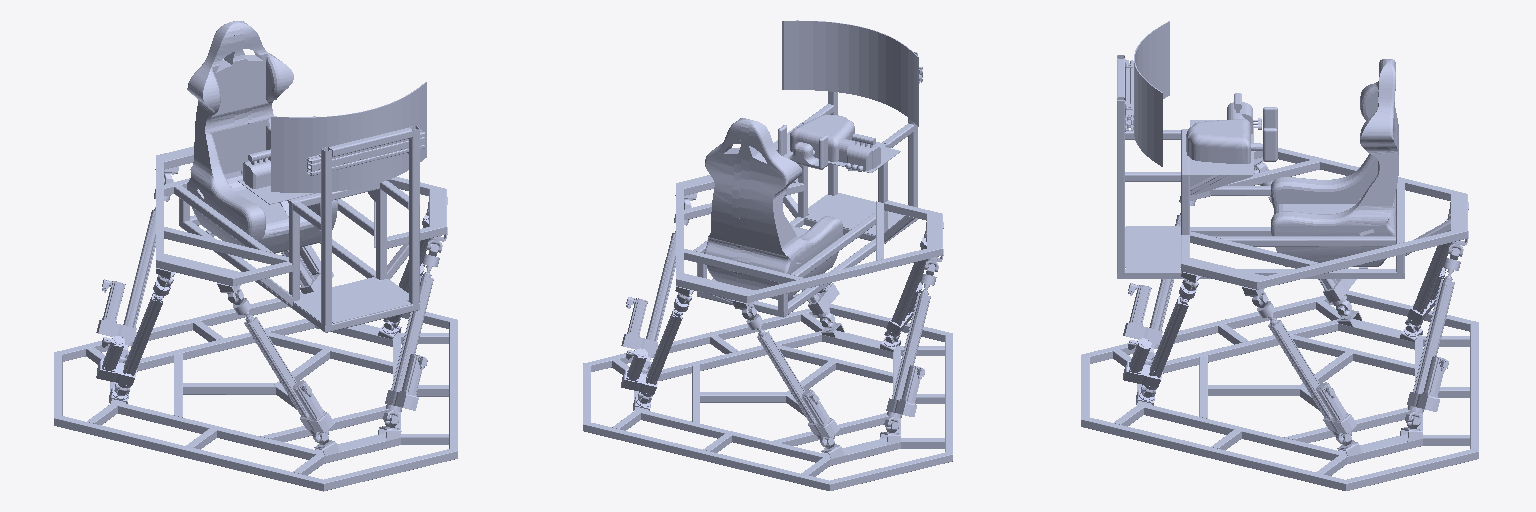
--- What the picture shows (computed from the rendered views, not written in the file) ---
3 views of the same robot in one strip: view 1: azimuth 30°, elevation 25°; view 2: azimuth 150°, elevation 25°; view 3: azimuth 270°, elevation 25° (orthographic).
Model Assem2 with 50 links and 49 joints (30 revolute, 6 prismatic, 13 fixed), rooted at base_link, posed all joints at 0.
Visible links, largest first — view 1: frameboven, base_link, onderaktuator_2, onderaktuator_5, onderaktuator_1, onderaktuator_6, onderaktuator_4; view 2: frameboven, base_link, onderaktuator_6, onderaktuator_3, onderaktuator_5, onderaktuator_4, onderaktuator_1, onderaktuator_2; view 3: frameboven, base_link, onderaktuator_4, onderaktuator_3, onderaktuator_2, onderaktuator_1, onderaktuator_5, onderaktuator_6.
Link boxes in pixels (x1=…): frameboven: x1=155, y1=21, x2=447, y2=332; base_link: x1=54, y1=292, x2=457, y2=491; onderaktuator_2: x1=383, y1=273, x2=433, y2=422; onderaktuator_5: x1=96, y1=207, x2=155, y2=356; onderaktuator_1: x1=244, y1=315, x2=334, y2=442; onderaktuator_6: x1=96, y1=292, x2=163, y2=394; onderaktuator_4: x1=281, y1=245, x2=333, y2=293; frameboven: x1=675, y1=20, x2=943, y2=317; base_link: x1=583, y1=304, x2=952, y2=490; onderaktuator_6: x1=884, y1=291, x2=930, y2=428; onderaktuator_3: x1=621, y1=231, x2=675, y2=367; onderaktuator_5: x1=757, y1=330, x2=839, y2=446; onderaktuator_4: x1=621, y1=309, x2=682, y2=402; onderaktuator_1: x1=884, y1=249, x2=927, y2=341; onderaktuator_2: x1=802, y1=283, x2=839, y2=322; frameboven: x1=1117, y1=21, x2=1468, y2=295; base_link: x1=1081, y1=290, x2=1478, y2=490; onderaktuator_4: x1=1405, y1=276, x2=1454, y2=424; onderaktuator_3: x1=1268, y1=318, x2=1356, y2=443; onderaktuator_2: x1=1123, y1=296, x2=1188, y2=396; onderaktuator_1: x1=1123, y1=213, x2=1180, y2=358; onderaktuator_5: x1=1405, y1=243, x2=1451, y2=331; onderaktuator_6: x1=1268, y1=196, x2=1356, y2=310.
Size in the robot's own frame: 2.14 by 1.85 by 1.74 metres.
50 mesh visuals loaded from 50 distinct referenced files (50 binary STL).

The robot description file, URDF, robot "Assem2":
<?xml version="1.0" encoding="utf-8"?>
<!-- This URDF was automatically created by SolidWorks to URDF Exporter! Originally created by Stephen Brawner ([email redacted]) 
     Commit Version: 1.6.0-4-g7f85cfe  Build Version: 1.6.7995.38578
     For more information, please see http://wiki.ros.org/sw_urdf_exporter -->
<robot
  name="Assem2">
  <link
    name="base_link">
    <inertial>
      <origin
        xyz="0.68024 -1.4149 0.026006"
        rpy="0 0 0" />
      <mass
        value="8.1743" />
      <inertia
        ixx="2.3867"
        ixy="0.0012133"
        ixz="-1.163E-05"
        iyy="2.3853"
        iyz="-6.2917E-06"
        izz="4.7628" />
    </inertial>
    <visual>
      <origin
        xyz="0 0 0"
        rpy="0 0 0" />
      <geometry>
        <mesh
          filename="package://Assem2/meshes/base_link.STL" />
      </geometry>
      <material
        name="">
        <color
          rgba="0.79216 0.81961 0.93333 1" />
      </material>
    </visual>
    <collision>
      <origin
        xyz="0 0 0"
        rpy="0 0 0" />
      <geometry>
        <mesh
          filename="package://Assem2/meshes/base_link.STL" />
      </geometry>
    </collision>
  </link>
  <link
    name="Xonder_1">
    <inertial>
      <origin
        xyz="4.0581E-09 1.1102E-15 0.034"
        rpy="0 0 0" />
      <mass
        value="0.056342" />
      <inertia
        ixx="1.6014E-05"
        ixy="6.1062E-11"
        ixz="-9.0738E-19"
        iyy="2.7464E-05"
        iyz="6.1062E-11"
        izz="1.6014E-05" />
    </inertial>
    <visual>
      <origin
        xyz="0 0 0"
        rpy="0 0 0" />
      <geometry>
        <mesh
          filename="package://Assem2/meshes/Xonder_1.STL" />
      </geometry>
      <material
        name="">
        <color
          rgba="0.79216 0.81961 0.93333 1" />
      </material>
    </visual>
    <collision>
      <origin
        xyz="0 0 0"
        rpy="0 0 0" />
      <geometry>
        <mesh
          filename="package://Assem2/meshes/Xonder_1.STL" />
      </geometry>
    </collision>
  </link>
  <joint
    name="Xonder_1_joint"
    type="revolute">
    <origin
      xyz="0.49551 -2.0953 0.10657"
      rpy="1.2911 -0.41982 0.11654" />
    <parent
      link="base_link" />
    <child
      link="Xonder_1" />
    <axis
      xyz="0 0 1" />
      <limit upper="0.785398" lower="-0.785398" effort="100" velocity="100"/>
  </joint>
  <link
    name="onderaktuator_1">
    <inertial>
      <origin
        xyz="-0.046341 0.24999 0.034776"
        rpy="0 0 0" />
      <mass
        value="1.8654" />
      <inertia
        ixx="0.058489"
        ixy="-0.0045785"
        ixz="7.4943E-05"
        iyy="0.005697"
        iyz="7.6664E-05"
        izz="0.062948" />
    </inertial>
    <visual>
      <origin
        xyz="0 0 0"
        rpy="0 0 0" />
      <geometry>
        <mesh
          filename="package://Assem2/meshes/onderaktuator_1.STL" />
      </geometry>
      <material
        name="">
        <color
          rgba="0.79216 0.81961 0.93333 1" />
      </material>
    </visual>
    <collision>
      <origin
        xyz="0 0 0"
        rpy="0 0 0" />
      <geometry>
        <mesh
          filename="package://Assem2/meshes/onderaktuator_1.STL" />
      </geometry>
    </collision>
  </link>
  <joint
    name="onderaktuator_1_joint"
    type="revolute">
    <origin
      xyz="-0.034 0 0.034"
      rpy="-1.5708 1.5558 -1.5708" />
    <parent
      link="Xonder_1" />
    <child
      link="onderaktuator_1" />
    <axis
      xyz="0 0 1" />
      <limit upper="0.785398" lower="-0.785398" effort="100" velocity="100"/>
  </joint>
  <link
    name="stangaktuator_1">
    <inertial>
      <origin
        xyz="1.9212E-07 -2.0663E-07 -0.17446"
        rpy="0 0 0" />
      <mass
        value="0.27817" />
      <inertia
        ixx="0.0068049"
        ixy="-8.1426E-11"
        ixz="-1.5965E-09"
        iyy="0.0068049"
        iyz="3.7643E-09"
        izz="2.2188E-05" />
    </inertial>
    <visual>
      <origin
        xyz="0 0 0"
        rpy="0 0 0" />
      <geometry>
        <mesh
          filename="package://Assem2/meshes/stangaktuator_1.STL" />
      </geometry>
      <material
        name="">
        <color
          rgba="0.79216 0.81961 0.93333 1" />
      </material>
    </visual>
    <collision>
      <origin
        xyz="0 0 0"
        rpy="0 0 0" />
      <geometry>
        <mesh
          filename="package://Assem2/meshes/stangaktuator_1.STL" />
      </geometry>
    </collision>
  </link>
  <joint
    name="stangaktuator_1_joint"
    type="prismatic">
    <origin
      xyz="0 0.6141 0.034"
      rpy="1.5708 0.17904 -3.1416" />
    <parent
      link="onderaktuator_1" />
    <child
      link="stangaktuator_1" />
    <axis
      xyz="0 0 1" />
      <limit
      lower="0"
      upper="0.4"
      effort="3000"
      velocity="100" />
  </joint>
  <link
    name="lager_1">
    <inertial>
      <origin
        xyz="-7.02949809472386E-10 9.83808590149238E-11 0.00761130965278722"
        rpy="0 0 0" />
      <mass
        value="0.217501495703173" />
      <inertia
        ixx="0.000106880183994852"
        ixy="5.69256203837754E-06"
        ixz="-7.96059898704768E-13"
        iyy="9.55271032351514E-05"
        iyz="-5.01418969448789E-12"
        izz="0.000156046844227139" />
    </inertial>
    <visual>
      <origin
        xyz="0 0 0"
        rpy="0 0 0" />
      <geometry>
        <mesh
          filename="package://Assem2/meshes/lager_1.STL" />
      </geometry>
      <material
        name="">
        <color
          rgba="0.792156862745098 0.819607843137255 0.933333333333333 1" />
      </material>
    </visual>
    <collision>
      <origin
        xyz="0 0 0"
        rpy="0 0 0" />
      <geometry>
        <mesh
          filename="package://Assem2/meshes/lager_1.STL" />
      </geometry>
    </collision>
  </link>
  <joint
    name="lager_1_joint"
    type="revolute">
    <origin
      xyz="0 0 0.13525"
      rpy="0 0 -1.3682" />
    <parent
      link="stangaktuator_1" />
    <child
      link="lager_1" />
    <axis
      xyz="0 0 1" />
      <limit upper="0.785398" lower="-0.785398" effort="100" velocity="100"/>
  /</joint>
  <link
    name="Xboven_1">
    <inertial>
      <origin
        xyz="-4.05809563730486E-09 3.21964677141295E-15 4.05807443204509E-09"
        rpy="0 0 0" />
      <mass
        value="0.056342036825042" />
      <inertia
        ixx="1.60143282288172E-05"
        ixy="-6.10624437311296E-11"
        ixz="-9.43594703241291E-19"
        iyy="2.74639311273774E-05"
        iyz="-6.10624437891513E-11"
        izz="1.60143282288171E-05" />
    </inertial>
    <visual>
      <origin
        xyz="0 0 0"
        rpy="0 0 0" />
      <geometry>
        <mesh
          filename="package://Assem2/meshes/Xboven_1.STL" />
      </geometry>
      <material
        name="">
        <color
          rgba="0.792156862745098 0.819607843137255 0.933333333333333 1" />
      </material>
    </visual>
    <collision>
      <origin
        xyz="0 0 0"
        rpy="0 0 0" />
      <geometry>
        <mesh
          filename="package://Assem2/meshes/Xboven_1.STL" />
      </geometry>
    </collision>
  </link>
  <joint
    name="Xboven_1_joint"
    type="revolute">
    <origin
      xyz="0 0 0.058926"
      rpy="1.5558 0 1.9642" />
    <parent
      link="lager_1" />
    <child
      link="Xboven_1" />
    <axis
      xyz="-1 0 0" />
      <limit upper="0.785398" lower="-0.785398" effort="100" velocity="100"/>
  </joint>
  <link
    name="U_1">
    <inertial>
      <origin
        xyz="6.02921734760287E-09 0.023965209376635 0.0339999979976191"
        rpy="0 0 0" />
      <mass
        value="0.0691680669253734" />
      <inertia
        ixx="3.71147088047297E-05"
        ixy="-1.20932779349426E-11"
        ixz="1.11394230980637E-10"
        iyy="3.75575627876219E-05"
        iyz="-1.46442444150324E-11"
        izz="2.10363555468146E-05" />
    </inertial>
    <visual>
      <origin
        xyz="0 0 0"
        rpy="0 0 0" />
      <geometry>
        <mesh
          filename="package://Assem2/meshes/U_1.STL" />
      </geometry>
      <material
        name="">
        <color
          rgba="0.792156862745098 0.819607843137255 0.933333333333333 1" />
      </material>
    </visual>
    <collision>
      <origin
        xyz="0 0 0"
        rpy="0 0 0" />
      <geometry>
        <mesh
          filename="package://Assem2/meshes/U_1.STL" />
      </geometry>
    </collision>
  </link>
  <joint
    name="U_1_joint"
    type="revolute">
    <origin
      xyz="0 0 0.034"
      rpy="-3.1416 0 2.9798" />
    <parent
      link="Xboven_1" />
    <child
      link="U_1" />
    <axis
      xyz="0 0 -1" />
      <limit upper="0.785398" lower="-0.785398" effort="100" velocity="100"/>
  </joint>
  <link
    name="schijfA_1">
    <inertial>
      <origin
        xyz="2.55351295663786E-14 0.000500000000002943 2.57571741713036E-14"
        rpy="0 0 0" />
      <mass
        value="0.00424821866581685" />
      <inertia
        ixx="1.47161295786626E-06"
        ixy="1.27584337680179E-20"
        ixz="1.21760986167806E-21"
        iyy="2.94251787928822E-06"
        iyz="-9.97910690983973E-21"
        izz="1.47161295786626E-06" />
    </inertial>
    <visual>
      <origin
        xyz="0 0 0"
        rpy="0 0 0" />
      <geometry>
        <mesh
          filename="package://Assem2/meshes/schijfA_1.STL" />
      </geometry>
      <material
        name="">
        <color
          rgba="0.792156862745098 0.819607843137255 0.933333333333333 1" />
      </material>
    </visual>
    <collision>
      <origin
        xyz="0 0 0"
        rpy="0 0 0" />
      <geometry>
        <mesh
          filename="package://Assem2/meshes/schijfA_1.STL" />
      </geometry>
    </collision>
  </link>
  <joint
    name="schijfA_1_joint"
    type="fixed">
    <origin
      xyz="0 0.043 0.034"
      rpy="0 -1.0472 0" />
    <parent
      link="U_1" />
    <child
      link="schijfA_1" />
    <axis
      xyz="0 0 0" />
  </joint>
  <link
    name="Xonder_2">
    <inertial>
      <origin
        xyz="4.0581E-09 5.2736E-15 0.034"
        rpy="0 0 0" />
      <mass
        value="0.056342" />
      <inertia
        ixx="1.6014E-05"
        ixy="6.1062E-11"
        ixz="-8.9627E-19"
        iyy="2.7464E-05"
        iyz="6.1062E-11"
        izz="1.6014E-05" />
    </inertial>
    <visual>
      <origin
        xyz="0 0 0"
        rpy="0 0 0" />
      <geometry>
        <mesh
          filename="package://Assem2/meshes/Xonder_2.STL" />
      </geometry>
      <material
        name="">
        <color
          rgba="0.79216 0.81961 0.93333 1" />
      </material>
    </visual>
    <collision>
      <origin
        xyz="0 0 0"
        rpy="0 0 0" />
      <geometry>
        <mesh
          filename="package://Assem2/meshes/Xonder_2.STL" />
      </geometry>
    </collision>
  </link>
  <joint
    name="Xonder_2_joint"
    type="revolute">
    <origin
      xyz="0.86543 -2.0953 0.10657"
      rpy="1.2911 0.41982 -0.11654" />
    <parent
      link="base_link" />
    <child
      link="Xonder_2" />
    <axis
      xyz="0 0 1" />
      <limit upper="0.785398" lower="-0.785398" effort="100" velocity="100"/>
  </joint>
  <link
    name="onderaktuator_2">
    <inertial>
      <origin
        xyz="-0.046341 0.24999 0.034776"
        rpy="0 0 0" />
      <mass
        value="1.8654" />
      <inertia
        ixx="0.058489"
        ixy="-0.0045785"
        ixz="7.4943E-05"
        iyy="0.005697"
        iyz="7.6664E-05"
        izz="0.062948" />
    </inertial>
    <visual>
      <origin
        xyz="0 0 0"
        rpy="0 0 0" />
      <geometry>
        <mesh
          filename="package://Assem2/meshes/onderaktuator_2.STL" />
      </geometry>
      <material
        name="">
        <color
          rgba="0.79216 0.81961 0.93333 1" />
      </material>
    </visual>
    <collision>
      <origin
        xyz="0 0 0"
        rpy="0 0 0" />
      <geometry>
        <mesh
          filename="package://Assem2/meshes/onderaktuator_2.STL" />
      </geometry>
    </collision>
  </link>
  <joint
    name="onderaktuator_2_joint"
    type="revolute">
    <origin
      xyz="-0.034 0 0.034"
      rpy="-1.5708 1.5558 -1.5708" />
    <parent
      link="Xonder_2" />
    <child
      link="onderaktuator_2" />
    <axis
      xyz="0 0 1" />
      <limit upper="0.785398" lower="-0.785398" effort="100" velocity="100"/>
  </joint>
  <link
    name="stangaktuator_2">
    <inertial>
      <origin
        xyz="1.72486930072324E-07 -1.96902141258448E-07 -0.299038704100568"
        rpy="0 0 0" />
      <mass
        value="0.278174502298026" />
      <inertia
        ixx="0.0068049433318464"
        ixy="-2.96509255950234E-11"
        ixz="-5.13956181653891E-10"
        iyy="0.00680493657762046"
        iyz="3.10662214676297E-09"
        izz="2.2187951082588E-05" />
    </inertial>
    <visual>
      <origin
        xyz="0 0 0"
        rpy="0 0 0" />
      <geometry>
        <mesh
          filename="package://Assem2/meshes/stangaktuator_2.STL" />
      </geometry>
      <material
        name="">
        <color
          rgba="0.792156862745098 0.819607843137255 0.933333333333333 1" />
      </material>
    </visual>
    <collision>
      <origin
        xyz="0 0 0"
        rpy="0 0 0" />
      <geometry>
        <mesh
          filename="package://Assem2/meshes/stangaktuator_2.STL" />
      </geometry>
    </collision>
  </link>
  <joint
    name="stangaktuator_2_joint"
    type="prismatic">
    <origin
      xyz="0 0.73868 0.034"
      rpy="-1.5708 -0.76994 0" />
    <parent
      link="onderaktuator_2" />
    <child
      link="stangaktuator_2" />
    <axis
      xyz="0 0 1" />
      <limit
      lower="0"
      upper="0.4"
      effort="3000"
      velocity="100" />
  </joint>
  <link
    name="lager_2">
    <inertial>
      <origin
        xyz="-0.00999183010513915 -0.000404247342965847 0.0182782662747604"
        rpy="0 0 0" />
      <mass
        value="0.217501675303535" />
      <inertia
        ixx="0.000106880294746943"
        ixy="5.69254546634325E-06"
        ixz="-1.48653047116627E-11"
        iyy="9.55271481040208E-05"
        iyz="-5.67937013488674E-11"
        izz="0.000156046891311603" />
    </inertial>
    <visual>
      <origin
        xyz="0 0 0"
        rpy="0 0 0" />
      <geometry>
        <mesh
          filename="package://Assem2/meshes/lager_2.STL" />
      </geometry>
      <material
        name="">
        <color
          rgba="0.792156862745098 0.819607843137255 0.933333333333333 1" />
      </material>
    </visual>
    <collision>
      <origin
        xyz="0 0 0"
        rpy="0 0 0" />
      <geometry>
        <mesh
          filename="package://Assem2/meshes/lager_2.STL" />
      </geometry>
    </collision>
  </link>
  <joint
    name="lager_2_joint"
    type="revolute">
    <origin
      xyz="0 0.01 0"
      rpy="0 0 1.5304" />
    <parent
      link="stangaktuator_2" />
    <child
      link="lager_2" />
    <axis
      xyz="0 0 1" />
      <limit upper="0.785398" lower="-0.785398" effort="100" velocity="100"/>
  </joint>
  <link
    name="Xboven_2">
    <inertial>
      <origin
        xyz="4.05805611336518E-09 -4.05814182258268E-09 -2.22044604925031E-16"
        rpy="0 0 0" />
      <mass
        value="0.0563420368250421" />
      <inertia
        ixx="1.60143282288172E-05"
        ixy="-9.3766547261051E-19"
        ixz="-6.10624437899984E-11"
        iyy="1.60143282288171E-05"
        iyz="-6.10624437957158E-11"
        izz="2.74639311273775E-05" />
    </inertial>
    <visual>
      <origin
        xyz="0 0 0"
        rpy="0 0 0" />
      <geometry>
        <mesh
          filename="package://Assem2/meshes/Xboven_2.STL" />
      </geometry>
      <material
        name="">
        <color
          rgba="0.792156862745098 0.819607843137255 0.933333333333333 1" />
      </material>
    </visual>
    <collision>
      <origin
        xyz="0 0 0"
        rpy="0 0 0" />
      <geometry>
        <mesh
          filename="package://Assem2/meshes/Xboven_2.STL" />
      </geometry>
    </collision>
  </link>
  <joint
    name="Xboven_2_joint"
    type="revolute">
    <origin
      xyz="-0.0099918 -0.00040423 0.069593"
      rpy="0 0.01503 0.3934" />
    <parent
      link="lager_2" />
    <child
      link="Xboven_2" />
    <axis
      xyz="0 -1 0" />
      <limit upper="0.785398" lower="-0.785398" effort="100" velocity="100"/>
  </joint>
  <link
    name="U_2">
    <inertial>
      <origin
        xyz="2.61259263112379E-08 0.0239652383880494 0.0340000368298488"
        rpy="0 0 0" />
      <mass
        value="0.0691682401521007" />
      <inertia
        ixx="3.71147964075179E-05"
        ixy="-2.84775010422909E-11"
        ixz="7.68039761402846E-11"
        iyy="3.75576101812513E-05"
        iyz="-3.98070937442932E-11"
        izz="2.10364227950237E-05" />
    </inertial>
    <visual>
      <origin
        xyz="0 0 0"
        rpy="0 0 0" />
      <geometry>
        <mesh
          filename="package://Assem2/meshes/U_2.STL" />
      </geometry>
      <material
        name="">
        <color
          rgba="0.792156862745098 0.819607843137255 0.933333333333333 1" />
      </material>
    </visual>
    <collision>
      <origin
        xyz="0 0 0"
        rpy="0 0 0" />
      <geometry>
        <mesh
          filename="package://Assem2/meshes/U_2.STL" />
      </geometry>
    </collision>
  </link>
  <joint
    name="U_2_joint"
    type="revolute">
    <origin
      xyz="-0.034 0 0"
      rpy="1.5708 0.16175 1.5708" />
    <parent
      link="Xboven_2" />
    <child
      link="U_2" />
    <axis
      xyz="0 0 1" />
      <limit upper="0.785398" lower="-0.785398" effort="100" velocity="100"/>
  </joint>
  <link
    name="schijfA_2">
    <inertial>
      <origin
        xyz="3.00870439673417E-14 0.000499999999999501 1.11022302462516E-14"
        rpy="0 0 0" />
      <mass
        value="0.00424821866581637" />
      <inertia
        ixx="1.47161295786609E-06"
        ixy="-1.1392965371846E-20"
        ixz="-2.13412598038681E-22"
        iyy="2.94251787928787E-06"
        iyz="2.39551505395357E-21"
        izz="1.47161295786609E-06" />
    </inertial>
    <visual>
      <origin
        xyz="0 0 0"
        rpy="0 0 0" />
      <geometry>
        <mesh
          filename="package://Assem2/meshes/schijfA_2.STL" />
      </geometry>
      <material
        name="">
        <color
          rgba="0.792156862745098 0.819607843137255 0.933333333333333 1" />
      </material>
    </visual>
    <collision>
      <origin
        xyz="0 0 0"
        rpy="0 0 0" />
      <geometry>
        <mesh
          filename="package://Assem2/meshes/schijfA_2.STL" />
      </geometry>
    </collision>
  </link>
  <joint
    name="schijfA_2_joint"
    type="fixed">
    <origin
      xyz="0 0.044 0.034"
      rpy="3.1416 -1.0472 0" />
    <parent
      link="U_2" />
    <child
      link="schijfA_2" />
    <axis
      xyz="0 0 0" />
  </joint>
  <link
    name="schijfB_2">
    <inertial>
      <origin
        xyz="9.88098491916389E-15 0.000500000000000167 -4.44089209850063E-15"
        rpy="0 0 0" />
      <mass
        value="0.00424821866581637" />
      <inertia
        ixx="1.47161295786609E-06"
        ixy="1.13098084085577E-16"
        ixz="-8.81774532981528E-22"
        iyy="2.94251787928787E-06"
        iyz="-4.28192624891586E-17"
        izz="1.47161295786608E-06" />
    </inertial>
    <visual>
      <origin
        xyz="0 0 0"
        rpy="0 0 0" />
      <geometry>
        <mesh
          filename="package://Assem2/meshes/schijfB_2.STL" />
      </geometry>
      <material
        name="">
        <color
          rgba="0.792156862745098 0.819607843137255 0.933333333333333 1" />
      </material>
    </visual>
    <collision>
      <origin
        xyz="0 0 0"
        rpy="0 0 0" />
      <geometry>
        <mesh
          filename="package://Assem2/meshes/schijfB_2.STL" />
      </geometry>
    </collision>
  </link>
  <joint
    name="schijfB_2_joint"
    type="fixed">
    <origin
      xyz="0 0 0"
      rpy="0 0 -3.1416" />
    <parent
      link="schijfA_2" />
    <child
      link="schijfB_2" />
    <axis
      xyz="0 0 0" />
  </joint>
  <link
    name="frameboven">
    <inertial>
      <origin
        xyz="0 0 0"
        rpy="0 0 0" />
      <mass
        value="36.8998176475609" />
      <inertia
        ixx="6.29272527053402"
        ixy="-0.0181678062908566"
        ixz="0.0159470428036254"
        iyy="4.30612404555482"
        iyz="1.54563382792871"
        izz="2.82773098148651" />
    </inertial>
    <visual>
      <origin
        xyz="0 0 0"
        rpy="0 0 0" />
      <geometry>
        <mesh
          filename="package://Assem2/meshes/frameboven.STL" />
      </geometry>
      <material
        name="">
        <color
          rgba="0.792156862745098 0.819607843137255 0.933333333333333 1" />
      </material>
    </visual>
    <collision>
      <origin
        xyz="0 0 0"
        rpy="0 0 0" />
      <geometry>
        <mesh
          filename="package://Assem2/meshes/frameboven.STL" />
      </geometry>
    </collision>
  </link>
  <joint
    name="frameboven_joint"
    type="fixed">
    <origin
      xyz="1.1141 0.015293 -0.86404"
      rpy="1.4706 0.053055 -2.7888" />
    <parent
      link="schijfB_2" />
    <child
      link="frameboven" />
    <axis
      xyz="0 0 0" />
  </joint>
  <link
    name="schijfB_1">
    <inertial>
      <origin
        xyz="-5.77315972805081E-15 0.000500000000000167 -6.21724893790088E-15"
        rpy="0 0 0" />
      <mass
        value="0.00424821866581677" />
      <inertia
        ixx="1.47161295786623E-06"
        ixy="1.37907551724841E-20"
        ixz="1.00585162486448E-21"
        iyy="2.94251787928815E-06"
        iyz="-1.17128774737509E-20"
        izz="1.47161295786622E-06" />
    </inertial>
    <visual>
      <origin
        xyz="0 0 0"
        rpy="0 0 0" />
      <geometry>
        <mesh
          filename="package://Assem2/meshes/schijfB_1.STL" />
      </geometry>
      <material
        name="">
        <color
          rgba="0.792156862745098 0.819607843137255 0.933333333333333 1" />
      </material>
    </visual>
    <collision>
      <origin
        xyz="0 0 0"
        rpy="0 0 0" />
      <geometry>
        <mesh
          filename="package://Assem2/meshes/schijfB_1.STL" />
      </geometry>
    </collision>
  </link>
  <joint
    name="schijfB_1_joint"
    type="fixed">
    <origin
      xyz="2.0845 0.87685 0.46064"
      rpy="1.2096 -0.087962 -2.1135" />
    <parent
      link="frameboven" />
    <child
      link="schijfB_1" />
    <axis
      xyz="0 0 0" />
  </joint>
  <link
    name="schijfB_4">
    <inertial>
      <origin
        xyz="-8.88178419700125E-15 0.000499999999952316 -1.28785870856518E-14"
        rpy="0 0 0" />
      <mass
        value="0.00424821866581672" />
      <inertia
        ixx="1.47161295786621E-06"
        ixy="7.36687053539726E-21"
        ixz="1.27054942088145E-21"
        iyy="2.94251787928811E-06"
        iyz="-7.19978005166155E-21"
        izz="1.4716129578662E-06" />
    </inertial>
    <visual>
      <origin
        xyz="0 0 0"
        rpy="0 0 0" />
      <geometry>
        <mesh
          filename="package://Assem2/meshes/schijfB_4.STL" />
      </geometry>
      <material
        name="">
        <color
          rgba="0.792156862745098 0.819607843137255 0.933333333333333 1" />
      </material>
    </visual>
    <collision>
      <origin
        xyz="0 0 0"
        rpy="0 0 0" />
      <geometry>
        <mesh
          filename="package://Assem2/meshes/schijfB_4.STL" />
      </geometry>
    </collision>
  </link>
  <joint
    name="schijfB_4_joint"
    type="fixed">
    <origin
      xyz="1.3709 -0.35921 0.46064"
      rpy="1.835 0.26398 0.070466" />
    <parent
      link="frameboven" />
    <child
      link="schijfB_4" />
    <axis
      xyz="0 0 0" />
  </joint>
  <link
    name="schijfB_6">
    <inertial>
      <origin
        xyz="1.46549439250521E-14 0.000500000000000389 2.67563748934663E-14"
        rpy="0 0 0" />
      <mass
        value="0.00424821866581627" />
      <inertia
        ixx="1.47161295786605E-06"
        ixy="-1.1964340379967E-20"
        ixz="-4.2351647362715E-22"
        iyy="2.9425178792878E-06"
        iyz="5.73070728376738E-21"
        izz="1.47161295786604E-06" />
    </inertial>
    <visual>
      <origin
        xyz="0 0 0"
        rpy="0 0 0" />
      <geometry>
        <mesh
          filename="package://Assem2/meshes/schijfB_6.STL" />
      </geometry>
      <material
        name="">
        <color
          rgba="0.792156862745098 0.819607843137255 0.933333333333333 1" />
      </material>
    </visual>
    <collision>
      <origin
        xyz="0 0 0"
        rpy="0 0 0" />
      <geometry>
        <mesh
          filename="package://Assem2/meshes/schijfB_6.STL" />
      </geometry>
    </collision>
  </link>
  <joint
    name="schijfB_6_joint"
    type="fixed">
    <origin
      xyz="2.2576 0.57704 0.46064"
      rpy="1.6776 -0.35626 -2.0785" />
    <parent
      link="frameboven" />
    <child
      link="schijfB_6" />
    <axis
      xyz="0 0 0" />
  </joint>
  <link
    name="schijfB_5">
    <inertial>
      <origin
        xyz="2.4980018054066E-15 0.000500000000000167 -1.66533453693773E-15"
        rpy="0 0 0" />
      <mass
        value="0.00424821866581641" />
      <inertia
        ixx="1.4716129578661E-06"
        ixy="-8.28338665410602E-21"
        ixz="1.4492204331929E-21"
        iyy="2.9425178792879E-06"
        iyz="-3.17637355220363E-21"
        izz="1.4716129578661E-06" />
    </inertial>
    <visual>
      <origin
        xyz="0 0 0"
        rpy="0 0 0" />
      <geometry>
        <mesh
          filename="package://Assem2/meshes/schijfB_5.STL" />
      </geometry>
      <material
        name="">
        <color
          rgba="0.792156862745098 0.819607843137255 0.933333333333333 1" />
      </material>
    </visual>
    <collision>
      <origin
        xyz="0 0 0"
        rpy="0 0 0" />
      <geometry>
        <mesh
          filename="package://Assem2/meshes/schijfB_5.STL" />
      </geometry>
    </collision>
  </link>
  <joint
    name="schijfB_5_joint"
    type="fixed">
    <origin
      xyz="1.7171 -0.35921 0.46064"
      rpy="1.835 -0.26398 -0.070466" />
    <parent
      link="frameboven" />
    <child
      link="schijfB_5" />
    <axis
      xyz="0 0 0" />
  </joint>
  <link
    name="schijfB_3">
    <inertial>
      <origin
        xyz="-9.99200722162641E-15 0.000499999999999279 -2.93098878501041E-14"
        rpy="0 0 0" />
      <mass
        value="0.00424821866581625" />
      <inertia
        ixx="1.47161295786604E-06"
        ixy="-1.33937084784586E-20"
        ixz="1.27054942088145E-21"
        iyy="2.94251787928778E-06"
        iyz="6.53803556161913E-21"
        izz="1.47161295786604E-06" />
    </inertial>
    <visual>
      <origin
        xyz="0 0 0"
        rpy="0 0 0" />
      <geometry>
        <mesh
          filename="package://Assem2/meshes/schijfB_3.STL" />
      </geometry>
      <material
        name="">
        <color
          rgba="0.792156862745098 0.819607843137255 0.933333333333333 1" />
      </material>
    </visual>
    <collision>
      <origin
        xyz="0 0 0"
        rpy="0 0 0" />
      <geometry>
        <mesh
          filename="package://Assem2/meshes/schijfB_3.STL" />
      </geometry>
    </collision>
  </link>
  <joint
    name="schijfB_3_joint"
    type="fixed">
    <origin
      xyz="0.83033 0.57704 0.46064"
      rpy="1.6776 0.35626 2.0785" />
    <parent
      link="frameboven" />
    <child
      link="schijfB_3" />
    <axis
      xyz="0 0 0" />
  </joint>
  <link
    name="Xonder_3">
    <inertial>
      <origin
        xyz="4.05809696957249E-09 -1.11022302462516E-15 0.0339999959419035"
        rpy="0 0 0" />
      <mass
        value="0.056342036825042" />
      <inertia
        ixx="1.60143282288172E-05"
        ixy="6.1062443742988E-11"
        ixz="-9.36394923189629E-19"
        iyy="2.74639311273774E-05"
        iyz="6.10624438243032E-11"
        izz="1.6014328228817E-05" />
    </inertial>
    <visual>
      <origin
        xyz="0 0 0"
        rpy="0 0 0" />
      <geometry>
        <mesh
          filename="package://Assem2/meshes/Xonder_3.STL" />
      </geometry>
      <material
        name="">
        <color
          rgba="0.792156862745098 0.819607843137255 0.933333333333333 1" />
      </material>
    </visual>
    <collision>
      <origin
        xyz="0 0 0"
        rpy="0 0 0" />
      <geometry>
        <mesh
          filename="package://Assem2/meshes/Xonder_3.STL" />
      </geometry>
    </collision>
  </link>
  <joint
    name="Xonder_3_joint"
    type="revolute">
    <origin
      xyz="1.3722 -1.1934 0.129"
      rpy="2.0056 -0.25483 0.5236" />
    <parent
      link="base_link" />
    <child
      link="Xonder_3" />
    <axis
      xyz="0 0 1" />
      <limit upper="0.785398" lower="-0.785398" effort="100" velocity="100"/>
  </joint>
  <link
    name="onderaktuator_3">
    <inertial>
      <origin
        xyz="0.0396021359321774 0.247508283084692 -0.00857882691181078"
        rpy="0 0 0" />
      <mass
        value="1.86541059754337" />
      <inertia
        ixx="0.061442854268015"
        ixy="-0.00914772176431719"
        ixz="-0.000939900476778596"
        iyy="0.00735160076624045"
        iyz="-0.00528747120190645"
        izz="0.058339922897334" />
    </inertial>
    <visual>
      <origin
        xyz="0 0 0"
        rpy="0 0 0" />
      <geometry>
        <mesh
          filename="package://Assem2/meshes/onderaktuator_3.STL" />
      </geometry>
      <material
        name="">
        <color
          rgba="0.792156862745098 0.819607843137255 0.933333333333333 1" />
      </material>
    </visual>
    <collision>
      <origin
        xyz="0 0 0"
        rpy="0 0 0" />
      <geometry>
        <mesh
          filename="package://Assem2/meshes/onderaktuator_3.STL" />
      </geometry>
    </collision>
  </link>
  <joint
    name="onderaktuator_3_joint"
    type="revolute">
    <origin
      xyz="0.034 0 0.034"
      rpy="-1.5708 -1.409 1.5708" />
    <parent
      link="Xonder_3" />
    <child
      link="onderaktuator_3" />
    <axis
      xyz="0 0 1" />
      <limit upper="0.785398" lower="-0.785398" effort="100" velocity="100"/>
  </joint>
  <link
    name="stangaktuator_3">
    <inertial>
      <origin
        xyz="1.99965038749639E-07 -1.95932982061109E-07 -0.338747803027267"
        rpy="0 0 0" />
      <mass
        value="0.278174388160801" />
      <inertia
        ixx="0.00680492570319809"
        ixy="-7.62999207543601E-11"
        ixz="-1.8767196511556E-09"
        iyy="0.00680491891571611"
        iyz="2.81764835615323E-09"
        izz="2.21879496027051E-05" />
    </inertial>
    <visual>
      <origin
        xyz="0 0 0"
        rpy="0 0 0" />
      <geometry>
        <mesh
          filename="package://Assem2/meshes/stangaktuator_3.STL" />
      </geometry>
      <material
        name="">
        <color
          rgba="0.792156862745098 0.819607843137255 0.933333333333333 1" />
      </material>
    </visual>
    <collision>
      <origin
        xyz="0 0 0"
        rpy="0 0 0" />
      <geometry>
        <mesh
          filename="package://Assem2/meshes/stangaktuator_3.STL" />
      </geometry>
    </collision>
  </link>
  <joint
    name="stangaktuator_3_joint"
    type="prismatic">
    <origin
      xyz="0.12534 0.76814 0.045699"
      rpy="1.5519 0.65262 2.9683" />
    <parent
      link="onderaktuator_3" />
    <child
      link="stangaktuator_3" />
    <axis
      xyz="0 0 1" />
      <limit
      lower="0"
      upper="0.4"
      effort="3000"
      velocity="100" />
  </joint>
  <link
    name="lager_3">
    <inertial>
      <origin
        xyz="-0.00625903536798766 -0.00779900598272498 -0.0214307160108012"
        rpy="0 0 0" />
      <mass
        value="0.217501483070319" />
      <inertia
        ixx="0.00010688017697327"
        ixy="5.69256342166431E-06"
        ixz="4.74296033085289E-12"
        iyy="9.55271046555032E-05"
        iyz="1.63801228016922E-11"
        izz="0.000156046837314054" />
    </inertial>
    <visual>
      <origin
        xyz="0 0 0"
        rpy="0 0 0" />
      <geometry>
        <mesh
          filename="package://Assem2/meshes/lager_3.STL" />
      </geometry>
      <material
        name="">
        <color
          rgba="0.792156862745098 0.819607843137255 0.933333333333333 1" />
      </material>
    </visual>
    <collision>
      <origin
        xyz="0 0 0"
        rpy="0 0 0" />
      <geometry>
        <mesh
          filename="package://Assem2/meshes/lager_3.STL" />
      </geometry>
    </collision>
  </link>
  <joint
    name="lager_3_joint"
    type="revolute">
    <origin
      xyz="0 0.01 0"
      rpy="0 0 0.67629" />
    <parent
      link="stangaktuator_3" />
    <child
      link="lager_3" />
    <axis
      xyz="0 0 1" />
      <limit upper="0.785398" lower="-0.785398" effort="100" velocity="100"/>
  </joint>
  <link
    name="Xboven_3">
    <inertial>
      <origin
        xyz="4.05763955768634E-09 6.09896577685731E-11 4.05809807979551E-09"
        rpy="0 0 0" />
      <mass
        value="0.0563420368250424" />
      <inertia
        ixx="1.6016916281612E-05"
        ixy="-1.72120546396361E-07"
        ixz="-9.17721836227853E-13"
        iyy="2.74613430745829E-05"
        iyz="6.10555470876526E-11"
        izz="1.60143282288173E-05" />
    </inertial>
    <visual>
      <origin
        xyz="0 0 0"
        rpy="0 0 0" />
      <geometry>
        <mesh
          filename="package://Assem2/meshes/Xboven_3.STL" />
      </geometry>
      <material
        name="">
        <color
          rgba="0.792156862745098 0.819607843137255 0.933333333333333 1" />
      </material>
    </visual>
    <collision>
      <origin
        xyz="0 0 0"
        rpy="0 0 0" />
      <geometry>
        <mesh
          filename="package://Assem2/meshes/Xboven_3.STL" />
      </geometry>
    </collision>
  </link>
  <joint
    name="Xboven_3_joint"
    type="revolute">
    <origin
      xyz="-0.006259 -0.007799 0.029884"
      rpy="1.5708 0 -2.7482" />
    <parent
      link="lager_3" />
    <child
      link="Xboven_3" />
    <axis
      xyz="0 0 -1" />
      <limit upper="0.785398" lower="-0.785398" effort="100" velocity="100"/>
  </joint>
  <link
    name="U_3">
    <inertial>
      <origin
        xyz="-2.3036748952876E-08 0.0239652399553396 0.0339999609890491"
        rpy="0 0 0" />
      <mass
        value="0.0691682464622873" />
      <inertia
        ixx="3.71147965435714E-05"
        ixy="2.53707498828416E-11"
        ixz="7.66384472414083E-11"
        iyy="3.75576086268656E-05"
        iyz="3.03218187826852E-11"
        izz="2.10364251818792E-05" />
    </inertial>
    <visual>
      <origin
        xyz="0 0 0"
        rpy="0 0 0" />
      <geometry>
        <mesh
          filename="package://Assem2/meshes/U_3.STL" />
      </geometry>
      <material
        name="">
        <color
          rgba="0.792156862745098 0.819607843137255 0.933333333333333 1" />
      </material>
    </visual>
    <collision>
      <origin
        xyz="0 0 0"
        rpy="0 0 0" />
      <geometry>
        <mesh
          filename="package://Assem2/meshes/U_3.STL" />
      </geometry>
    </collision>
  </link>
  <joint
    name="U_3_joint"
    type="revolute">
    <origin
      xyz="0.033996 0.00051099 0"
      rpy="-1.5708 -1.409 1.5858" />
    <parent
      link="Xboven_3" />
    <child
      link="U_3" />
    <axis
      xyz="0 0 1" />
      <limit upper="0.785398" lower="-0.785398" effort="100" velocity="100"/>
  </joint>
  <link
    name="schijfA_3">
    <inertial>
      <origin
        xyz="6.21724893790088E-15 0.000500000000001055 2.1094237467878E-14"
        rpy="0 0 0" />
      <mass
        value="0.00424821866581625" />
      <inertia
        ixx="1.47161295786604E-06"
        ixy="-1.32878293600518E-20"
        ixz="3.07049443379684E-21"
        iyy="2.94251787928778E-06"
        iyz="7.94093388050907E-21"
        izz="1.47161295786604E-06" />
    </inertial>
    <visual>
      <origin
        xyz="0 0 0"
        rpy="0 0 0" />
      <geometry>
        <mesh
          filename="package://Assem2/meshes/schijfA_3.STL" />
      </geometry>
      <material
        name="">
        <color
          rgba="0.792156862745098 0.819607843137255 0.933333333333333 1" />
      </material>
    </visual>
    <collision>
      <origin
        xyz="0 0 0"
        rpy="0 0 0" />
      <geometry>
        <mesh
          filename="package://Assem2/meshes/schijfA_3.STL" />
      </geometry>
    </collision>
  </link>
  <joint
    name="schijfA_3_joint"
    type="fixed">
    <origin
      xyz="0 0.043 0.034"
      rpy="0 1.0472 0" />
    <parent
      link="U_3" />
    <child
      link="schijfA_3" />
    <axis
      xyz="0 0 0" />
  </joint>
  <link
    name="Xonder_4">
    <inertial>
      <origin
        xyz="4.05809652548328E-09 1.0769163338864E-14 0.0339999959419079"
        rpy="0 0 0" />
      <mass
        value="0.0563420368250426" />
      <inertia
        ixx="1.60143282288172E-05"
        ixy="6.10624437717872E-11"
        ixz="-9.14795583034644E-19"
        iyy="2.74639311273777E-05"
        iyz="6.10624437262591E-11"
        izz="1.60143282288173E-05" />
    </inertial>
    <visual>
      <origin
        xyz="0 0 0"
        rpy="0 0 0" />
      <geometry>
        <mesh
          filename="package://Assem2/meshes/Xonder_4.STL" />
      </geometry>
      <material
        name="">
        <color
          rgba="0.792156862745098 0.819607843137255 0.933333333333333 1" />
      </material>
    </visual>
    <collision>
      <origin
        xyz="0 0 0"
        rpy="0 0 0" />
      <geometry>
        <mesh
          filename="package://Assem2/meshes/Xonder_4.STL" />
      </geometry>
    </collision>
  </link>
  <joint
    name="Xonder_4_joint"
    type="revolute">
    <origin
      xyz="1.1935 -0.86938 0.10128"
      rpy="1.136 -0.25483 0.5236" />
    <parent
      link="base_link" />
    <child
      link="Xonder_4" />
    <axis
      xyz="0 0 1" />
      <limit upper="0.785398" lower="-0.785398" effort="100" velocity="100"/>
  </joint>
  <link
    name="onderaktuator_4">
    <inertial>
      <origin
        xyz="-0.0411337412926387 0.247258250437425 -0.00857883844072727"
        rpy="0 0 0" />
      <mass
        value="1.86541190786414" />
      <inertia
        ixx="0.0614909110917856"
        ixy="0.00900450352666603"
        ixz="0.000789715243940566"
        iyy="0.00730358016572687"
        iyz="-0.00531197918510372"
        izz="0.058339961955597" />
    </inertial>
    <visual>
      <origin
        xyz="0 0 0"
        rpy="0 0 0" />
      <geometry>
        <mesh
          filename="package://Assem2/meshes/onderaktuator_4.STL" />
      </geometry>
      <material
        name="">
        <color
          rgba="0.792156862745098 0.819607843137255 0.933333333333333 1" />
      </material>
    </visual>
    <collision>
      <origin
        xyz="0 0 0"
        rpy="0 0 0" />
      <geometry>
        <mesh
          filename="package://Assem2/meshes/onderaktuator_4.STL" />
      </geometry>
    </collision>
  </link>
  <joint
    name="onderaktuator_4_joint"
    type="revolute">
    <origin
      xyz="0.034 0 0.034"
      rpy="1.5708 -1.409 -1.5708" />
    <parent
      link="Xonder_4" />
    <child
      link="onderaktuator_4" />
    <axis
      xyz="0 0 1" />
      <limit upper="0.785398" lower="-0.785398" effort="100" velocity="100"/>
  </joint>
  <link
    name="stangaktuator_4">
    <inertial>
      <origin
        xyz="1.94963892585776E-07 -2.11818474871173E-07 -0.175762019207903"
        rpy="0 0 0" />
      <mass
        value="0.278174378676583" />
      <inertia
        ixx="0.0068049452112121"
        ixy="-9.01910545217117E-11"
        ixz="-1.84620097427376E-09"
        iyy="0.00680493850323008"
        iyz="3.85162448361509E-09"
        izz="2.21879178679808E-05" />
    </inertial>
    <visual>
      <origin
        xyz="0 0 0"
        rpy="0 0 0" />
      <geometry>
        <mesh
          filename="package://Assem2/meshes/stangaktuator_4.STL" />
      </geometry>
      <material
        name="">
        <color
          rgba="0.792156862745098 0.819607843137255 0.933333333333333 1" />
      </material>
    </visual>
    <collision>
      <origin
        xyz="0 0 0"
        rpy="0 0 0" />
      <geometry>
        <mesh
          filename="package://Assem2/meshes/stangaktuator_4.STL" />
      </geometry>
    </collision>
  </link>
  <joint
    name="stangaktuator_4_joint"
    type="prismatic">
    <origin
      xyz="-0.099099 0.6073 0.043249"
      rpy="1.5384 -1.0883 -2.9511" />
    <parent
      link="onderaktuator_4" />
    <child
      link="stangaktuator_4" />
    <axis
      xyz="0 0 1" />
      <limit
      lower="0"
      upper="0.4"
      effort="3000"
      velocity="100" />
  </joint>
  <link
    name="lager_4">
    <inertial>
      <origin
        xyz="-2.28975044480606E-09 2.43712228176207E-09 -0.001204535813145"
        rpy="0 0 0" />
      <mass
        value="0.217501483163805" />
      <inertia
        ixx="0.00010688017746121"
        ixy="5.69256294254417E-06"
        ixz="-5.81917940076964E-12"
        iyy="9.55271049058665E-05"
        iyz="-2.4674925732827E-11"
        izz="0.000156046837681744" />
    </inertial>
    <visual>
      <origin
        xyz="0 0 0"
        rpy="0 0 0" />
      <geometry>
        <mesh
          filename="package://Assem2/meshes/lager_4.STL" />
      </geometry>
      <material
        name="">
        <color
          rgba="0.792156862745098 0.819607843137255 0.933333333333333 1" />
      </material>
    </visual>
    <collision>
      <origin
        xyz="0 0 0"
        rpy="0 0 0" />
      <geometry>
        <mesh
          filename="package://Assem2/meshes/lager_4.STL" />
      </geometry>
    </collision>
  </link>
  <joint
    name="lager_4_joint"
    type="revolute">
    <origin
      xyz="0 0 0.14276"
      rpy="0 0 1.2427" />
    <parent
      link="stangaktuator_4" />
    <child
      link="lager_4" />
    <axis
      xyz="0 0 1" />
      <limit upper="0.785398" lower="-0.785398" effort="100" velocity="100"/>
  </joint>
  <link
    name="Xboven_4">
    <inertial>
      <origin
        xyz="-4.05809941206314E-09 0.000109841869041449 -1.65508687755E-06"
        rpy="0 0 0" />
      <mass
        value="0.0563420368250424" />
      <inertia
        ixx="1.60143282288172E-05"
        ixy="6.10624438205445E-11"
        ixz="9.27395198125052E-19"
        iyy="2.74639311273776E-05"
        iyz="-6.10624438298089E-11"
        izz="1.60143282288173E-05" />
    </inertial>
    <visual>
      <origin
        xyz="0 0 0"
        rpy="0 0 0" />
      <geometry>
        <mesh
          filename="package://Assem2/meshes/Xboven_4.STL" />
      </geometry>
      <material
        name="">
        <color
          rgba="0.792156862745098 0.819607843137255 0.933333333333333 1" />
      </material>
    </visual>
    <collision>
      <origin
        xyz="0 0 0"
        rpy="0 0 0" />
      <geometry>
        <mesh
          filename="package://Assem2/meshes/Xboven_4.STL" />
      </geometry>
    </collision>
  </link>
  <joint
    name="Xboven_4_joint"
    type="revolute">
    <origin
      xyz="0 0 0.05"
      rpy="1.5858 0 1.9642" />
    <parent
      link="lager_4" />
    <child
      link="Xboven_4" />
    <axis
      xyz="1 0 0" />
      <limit upper="0.785398" lower="-0.785398" effort="100" velocity="100"/>
  </joint>
  <link
    name="U_4">
    <inertial>
      <origin
        xyz="2.60076415958821E-08 0.0239652472102714 0.0340000285234168"
        rpy="0 0 0" />
      <mass
        value="0.0691681982520595" />
      <inertia
        ixx="3.7114782075393E-05"
        ixy="-5.04668914807366E-11"
        ixz="8.98531533841595E-11"
        iyy="3.75575797219563E-05"
        iyz="-6.87942139146695E-11"
        izz="2.10364065358853E-05" />
    </inertial>
    <visual>
      <origin
        xyz="0 0 0"
        rpy="0 0 0" />
      <geometry>
        <mesh
          filename="package://Assem2/meshes/U_4.STL" />
      </geometry>
      <material
        name="">
        <color
          rgba="0.792156862745098 0.819607843137255 0.933333333333333 1" />
      </material>
    </visual>
    <collision>
      <origin
        xyz="0 0 0"
        rpy="0 0 0" />
      <geometry>
        <mesh
          filename="package://Assem2/meshes/U_4.STL" />
      </geometry>
    </collision>
  </link>
  <joint
    name="U_4_joint"
    type="revolute">
    <origin
      xyz="0 0.00010984 -0.034002"
      rpy="0 0 -0.16175" />
    <parent
      link="Xboven_4" />
    <child
      link="U_4" />
    <axis
      xyz="0 0 1" />
      <limit upper="0.785398" lower="-0.785398" effort="100" velocity="100"/>
  </joint>
  <link
    name="schijfA_4">
    <inertial>
      <origin
        xyz="1.33226762955019E-15 0.000499999999997391 2.88657986402541E-15"
        rpy="0 0 0" />
      <mass
        value="0.00424821866581672" />
      <inertia
        ixx="1.47161295786621E-06"
        ixy="-8.89384594617015E-21"
        ixz="-3.17637355220363E-22"
        iyy="2.94251787928811E-06"
        iyz="-2.83226641738157E-21"
        izz="1.47161295786621E-06" />
    </inertial>
    <visual>
      <origin
        xyz="0 0 0"
        rpy="0 0 0" />
      <geometry>
        <mesh
          filename="package://Assem2/meshes/schijfA_4.STL" />
      </geometry>
      <material
        name="">
        <color
          rgba="0.792156862745098 0.819607843137255 0.933333333333333 1" />
      </material>
    </visual>
    <collision>
      <origin
        xyz="0 0 0"
        rpy="0 0 0" />
      <geometry>
        <mesh
          filename="package://Assem2/meshes/schijfA_4.STL" />
      </geometry>
    </collision>
  </link>
  <joint
    name="schijfA_4_joint"
    type="fixed">
    <origin
      xyz="0 0.0429999999999974 0.0340000000000068"
      rpy="0 1.04719755119652 0" />
    <parent
      link="U_4" />
    <child
      link="schijfA_4" />
    <axis
      xyz="0 0 0" />
  </joint>
  <link
    name="Xonder_5">
    <inertial>
      <origin
        xyz="4.05809630343867E-09 9.76996261670138E-15 0.0339999959419031"
        rpy="0 0 0" />
      <mass
        value="0.0563420368250423" />
      <inertia
        ixx="1.60143282288172E-05"
        ixy="6.10624438535258E-11"
        ixz="-9.37241956136883E-19"
        iyy="2.74639311273776E-05"
        iyz="6.10624438048214E-11"
        izz="1.60143282288172E-05" />
    </inertial>
    <visual>
      <origin
        xyz="0 0 0"
        rpy="0 0 0" />
      <geometry>
        <mesh
          filename="package://Assem2/meshes/Xonder_5.STL" />
      </geometry>
      <material
        name="">
        <color
          rgba="0.792156862745098 0.819607843137255 0.933333333333333 1" />
      </material>
    </visual>
    <collision>
      <origin
        xyz="0 0 0"
        rpy="0 0 0" />
      <geometry>
        <mesh
          filename="package://Assem2/meshes/Xonder_5.STL" />
      </geometry>
    </collision>
  </link>
  <joint
    name="Xonder_5_joint"
    type="revolute">
    <origin
      xyz="0.12662 -0.88144 0.12371"
      rpy="1.8505 0.41982 1.1637" />
    <parent
      link="base_link" />
    <child
      link="Xonder_5" />
    <axis
      xyz="0 0 1" />
      <limit upper="0.785398" lower="-0.785398" effort="100" velocity="100"/>
  </joint>
  <link
    name="onderaktuator_5">
    <inertial>
      <origin
        xyz="-0.0463411886215642 0.249986948197703 0.0347759123967549"
        rpy="0 0 0" />
      <mass
        value="1.86541202623272" />
      <inertia
        ixx="0.0584894971751281"
        ixy="-0.00457854821231517"
        ixz="7.49442424738556E-05"
        iyy="0.00569701951189276"
        iyz="7.66594475344899E-05"
        izz="0.0629479410685052" />
    </inertial>
    <visual>
      <origin
        xyz="0 0 0"
        rpy="0 0 0" />
      <geometry>
        <mesh
          filename="package://Assem2/meshes/onderaktuator_5.STL" />
      </geometry>
      <material
        name="">
        <color
          rgba="0.792156862745098 0.819607843137255 0.933333333333333 1" />
      </material>
    </visual>
    <collision>
      <origin
        xyz="0 0 0"
        rpy="0 0 0" />
      <geometry>
        <mesh
          filename="package://Assem2/meshes/onderaktuator_5.STL" />
      </geometry>
    </collision>
  </link>
  <joint
    name="onderaktuator_5_joint"
    type="revolute">
    <origin
      xyz="0.034 0 0.034"
      rpy="1.5708 -1.5558 -1.5708" />
    <parent
      link="Xonder_5" />
    <child
      link="onderaktuator_5" />
    <axis
      xyz="0 0 1" />
      <limit upper="0.785398" lower="-0.785398" effort="100" velocity="100"/>
  </joint>
  <link
    name="stangaktuator_5">
    <inertial>
      <origin
        xyz="1.75130262070056E-07 -2.05694856814098E-07 -0.300060127975425"
        rpy="0 0 0" />
      <mass
        value="0.278174242795763" />
      <inertia
        ixx="0.0068049358601258"
        ixy="-4.64146770063484E-11"
        ixz="-6.17519129414949E-10"
        iyy="0.00680492912802032"
        iyz="3.5925436148176E-09"
        izz="2.21879364471694E-05" />
    </inertial>
    <visual>
      <origin
        xyz="0 0 0"
        rpy="0 0 0" />
      <geometry>
        <mesh
          filename="package://Assem2/meshes/stangaktuator_5.STL" />
      </geometry>
      <material
        name="">
        <color
          rgba="0.792156862745098 0.819607843137255 0.933333333333333 1" />
      </material>
    </visual>
    <collision>
      <origin
        xyz="0 0 0"
        rpy="0 0 0" />
      <geometry>
        <mesh
          filename="package://Assem2/meshes/stangaktuator_5.STL" />
      </geometry>
    </collision>
  </link>
  <joint
    name="stangaktuator_5_joint"
    type="prismatic">
    <origin
      xyz="0 0.7397 0.034"
      rpy="-1.5708 1.5533 0" />
    <parent
      link="onderaktuator_5" />
    <child
      link="stangaktuator_5" />
    <axis
      xyz="0 0 1" />
      <limit
      lower="0"
      upper="0.4"
      effort="3000"
      velocity="100" />
  </joint>
  <link
    name="lager_5">
    <inertial>
      <origin
        xyz="0.000410382918921592 0.0099915734038275 0.0172570641122382"
        rpy="0 0 0" />
      <mass
        value="0.217501488445703" />
      <inertia
        ixx="0.000106880179896209"
        ixy="5.6925627169493E-06"
        ixz="-3.29692583421416E-12"
        iyy="9.55271054844135E-05"
        iyz="3.30059828192929E-12"
        izz="0.000156046840585406" />
    </inertial>
    <visual>
      <origin
        xyz="0 0 0"
        rpy="0 0 0" />
      <geometry>
        <mesh
          filename="package://Assem2/meshes/lager_5.STL" />
      </geometry>
      <material
        name="">
        <color
          rgba="0.792156862745098 0.819607843137255 0.933333333333333 1" />
      </material>
    </visual>
    <collision>
      <origin
        xyz="0 0 0"
        rpy="0 0 0" />
      <geometry>
        <mesh
          filename="package://Assem2/meshes/lager_5.STL" />
      </geometry>
    </collision>
  </link>
  <joint
    name="lager_5_joint"
    type="revolute">
    <origin
      xyz="0 0.01 0"
      rpy="0 0 -3.1005" />
    <parent
      link="stangaktuator_5" />
    <child
      link="lager_5" />
    <axis
      xyz="0 0 1" />
      <limit upper="0.785398" lower="-0.785398" effort="100" velocity="100"/>
  </joint>
  <link
    name="Xboven_5">
    <inertial>
      <origin
        xyz="4.05763611599497E-09 6.09854389210795E-11 -4.058104130511E-09"
        rpy="0 0 0" />
      <mass
        value="0.0563420368250423" />
      <inertia
        ixx="1.60169126111356E-05"
        ixy="-1.71998476680854E-07"
        ixz="-9.17723611291273E-13"
        iyy="2.74613467450592E-05"
        iyz="6.10555417331603E-11"
        izz="1.60143282288172E-05" />
    </inertial>
    <visual>
      <origin
        xyz="0 0 0"
        rpy="0 0 0" />
      <geometry>
        <mesh
          filename="package://Assem2/meshes/Xboven_5.STL" />
      </geometry>
      <material
        name="">
        <color
          rgba="0.792156862745098 0.819607843137255 0.933333333333333 1" />
      </material>
    </visual>
    <collision>
      <origin
        xyz="0 0 0"
        rpy="0 0 0" />
      <geometry>
        <mesh
          filename="package://Assem2/meshes/Xboven_5.STL" />
      </geometry>
    </collision>
  </link>
  <joint
    name="Xboven_5_joint"
    type="revolute">
    <origin
      xyz="0.00041038 0.0099916 0.068571"
      rpy="1.5708 0 -2.7482" />
    <parent
      link="lager_5" />
    <child
      link="Xboven_5" />
    <axis
      xyz="0 0 -1" />
      <limit upper="0.785398" lower="-0.785398" effort="100" velocity="100"/>
  </joint>
  <link
    name="U_5">
    <inertial>
      <origin
        xyz="-2.12566814150605E-09 0.0239652144781018 0.0339999983527971"
        rpy="0 0 0" />
      <mass
        value="0.0691680568694601" />
      <inertia
        ixx="3.71147033186243E-05"
        ixy="1.06001791382212E-11"
        ixz="1.14855490131275E-10"
        iyy="3.75575533782162E-05"
        iyz="6.47901289088591E-12"
        izz="2.10363509122831E-05" />
    </inertial>
    <visual>
      <origin
        xyz="0 0 0"
        rpy="0 0 0" />
      <geometry>
        <mesh
          filename="package://Assem2/meshes/U_5.STL" />
      </geometry>
      <material
        name="">
        <color
          rgba="0.792156862745098 0.819607843137255 0.933333333333333 1" />
      </material>
    </visual>
    <collision>
      <origin
        xyz="0 0 0"
        rpy="0 0 0" />
      <geometry>
        <mesh
          filename="package://Assem2/meshes/U_5.STL" />
      </geometry>
    </collision>
  </link>
  <joint
    name="U_5_joint"
    type="revolute">
    <origin
      xyz="0.033996 0.00051099 0"
      rpy="-1.5708 -1.409 1.5858" />
    <parent
      link="Xboven_5" />
    <child
      link="U_5" />
    <axis
      xyz="0 0 -1" />
      <limit upper="0.785398" lower="-0.785398" effort="100" velocity="100"/>
  </joint>
  <link
    name="schijfA_5">
    <inertial>
      <origin
        xyz="1.55431223447522E-15 0.000500000000000278 -6.43929354282591E-15"
        rpy="0 0 0" />
      <mass
        value="0.0042482186658164" />
      <inertia
        ixx="1.4716129578661E-06"
        ixy="-8.76149704816167E-21"
        ixz="-6.88214269644119E-22"
        iyy="2.94251787928789E-06"
        iyz="5.55865371635635E-21"
        izz="1.47161295786609E-06" />
    </inertial>
    <visual>
      <origin
        xyz="0 0 0"
        rpy="0 0 0" />
      <geometry>
        <mesh
          filename="package://Assem2/meshes/schijfA_5.STL" />
      </geometry>
      <material
        name="">
        <color
          rgba="0.792156862745098 0.819607843137255 0.933333333333333 1" />
      </material>
    </visual>
    <collision>
      <origin
        xyz="0 0 0"
        rpy="0 0 0" />
      <geometry>
        <mesh
          filename="package://Assem2/meshes/schijfA_5.STL" />
      </geometry>
    </collision>
  </link>
  <joint
    name="schijfA_5_joint"
    type="fixed">
    <origin
      xyz="0 0.0429999999999997 0.0339999999999993"
      rpy="-3.14159265358968 1.04719755119668 3.14159265358952" />
    <parent
      link="U_5" />
    <child
      link="schijfA_5" />
    <axis
      xyz="0 0 0" />
  </joint>
  <link
    name="Xonder_6">
    <inertial>
      <origin
        xyz="4.05810463011136E-09 9.54791801177635E-15 0.0339999959419031"
        rpy="0 0 0" />
      <mass
        value="0.0563420368250425" />
      <inertia
        ixx="1.60143282288173E-05"
        ixy="6.10624437908454E-11"
        ixz="-9.13101517140136E-19"
        iyy="2.74639311273777E-05"
        iyz="6.10624438679254E-11"
        izz="1.60143282288173E-05" />
    </inertial>
    <visual>
      <origin
        xyz="0 0 0"
        rpy="0 0 0" />
      <geometry>
        <mesh
          filename="package://Assem2/meshes/Xonder_6.STL" />
      </geometry>
      <material
        name="">
        <color
          rgba="0.792156862745098 0.819607843137255 0.933333333333333 1" />
      </material>
    </visual>
    <collision>
      <origin
        xyz="0 0 0"
        rpy="0 0 0" />
      <geometry>
        <mesh
          filename="package://Assem2/meshes/Xonder_6.STL" />
      </geometry>
    </collision>
  </link>
  <joint
    name="Xonder_6_joint"
    type="revolute">
    <origin
      xyz="-0.058341 -1.2018 0.12371"
      rpy="1.8505 -0.41982 0.93066" />
    <parent
      link="base_link" />
    <child
      link="Xonder_6" />
    <axis
      xyz="0 0 1" />
      <limit upper="0.785398" lower="-0.785398" effort="100" velocity="100"/>
  </joint>
  <link
    name="onderaktuator_6">
    <inertial>
      <origin
        xyz="0.0463411739603124 0.249986992262757 0.0332240898663568"
        rpy="0 0 0" />
      <mass
        value="1.86541128079666" />
      <inertia
        ixx="0.0584894809092295"
        ixy="0.00457854631234544"
        ixz="7.49443593238905E-05"
        iyy="0.0056970200339165"
        iyz="-7.66594116394181E-05"
        izz="0.0629479272042214" />
    </inertial>
    <visual>
      <origin
        xyz="0 0 0"
        rpy="0 0 0" />
      <geometry>
        <mesh
          filename="package://Assem2/meshes/onderaktuator_6.STL" />
      </geometry>
      <material
        name="">
        <color
          rgba="0.792156862745098 0.819607843137255 0.933333333333333 1" />
      </material>
    </visual>
    <collision>
      <origin
        xyz="0 0 0"
        rpy="0 0 0" />
      <geometry>
        <mesh
          filename="package://Assem2/meshes/onderaktuator_6.STL" />
      </geometry>
    </collision>
  </link>
  <joint
    name="onderaktuator_6_joint"
    type="revolute">
    <origin
      xyz="-0.034 0 0.034"
      rpy="1.5708 1.5558 1.5708" />
    <parent
      link="Xonder_6" />
    <child
      link="onderaktuator_6" />
    <axis
      xyz="0 0 1" />
      <limit upper="0.785398" lower="-0.785398" effort="100" velocity="100"/>
  </joint>
  <link
    name="stangaktuator_6">
    <inertial>
      <origin
        xyz="1.79868898442237E-07 -1.96639883209837E-07 -0.340837572755451"
        rpy="0 0 0" />
      <mass
        value="0.27817434748845" />
      <inertia
        ixx="0.00680492326270412"
        ixy="-3.98721557073184E-11"
        ixz="-7.28220931738077E-10"
        iyy="0.00680491651093548"
        iyz="2.7212980315621E-09"
        izz="2.21879385829544E-05" />
    </inertial>
    <visual>
      <origin
        xyz="0 0 0"
        rpy="0 0 0" />
      <geometry>
        <mesh
          filename="package://Assem2/meshes/stangaktuator_6.STL" />
      </geometry>
      <material
        name="">
        <color
          rgba="0.792156862745098 0.819607843137255 0.933333333333333 1" />
      </material>
    </visual>
    <collision>
      <origin
        xyz="0 0 0"
        rpy="0 0 0" />
      <geometry>
        <mesh
          filename="package://Assem2/meshes/stangaktuator_6.STL" />
      </geometry>
    </collision>
  </link>
  <joint
    name="stangaktuator_6_joint"
    type="prismatic">
    <origin
      xyz="0 0.78048 0.034"
      rpy="1.5708 1.2161 -3.1416" />
    <parent
      link="onderaktuator_6" />
    <child
      link="stangaktuator_6" />
    <axis
      xyz="0 0 1" />
    <limit
      lower="0"
      upper="0.4"
      effort="3000"
      velocity="100" />
  </joint>
  <link
    name="lager_6">
    <inertial>
      <origin
        xyz="0.00918815121814573 -0.00394687565779428 -0.0235204437196399"
        rpy="0 0 0" />
      <mass
        value="0.217501684225934" />
      <inertia
        ixx="0.000106880301476339"
        ixy="5.69254277140265E-06"
        ixz="1.28993747124394E-11"
        iyy="9.55271509879494E-05"
        iyz="5.19761401378673E-11"
        izz="0.000156046899675735" />
    </inertial>
    <visual>
      <origin
        xyz="0 0 0"
        rpy="0 0 0" />
      <geometry>
        <mesh
          filename="package://Assem2/meshes/lager_6.STL" />
      </geometry>
      <material
        name="">
        <color
          rgba="0.792156862745098 0.819607843137255 0.933333333333333 1" />
      </material>
    </visual>
    <collision>
      <origin
        xyz="0 0 0"
        rpy="0 0 0" />
      <geometry>
        <mesh
          filename="package://Assem2/meshes/lager_6.STL" />
      </geometry>
    </collision>
  </link>
  <joint
    name="lager_6_joint"
    type="revolute">
    <origin
      xyz="0 0.01 0"
      rpy="0 0 -1.1651" />
    <parent
      link="stangaktuator_6" />
    <child
      link="lager_6" />
    <axis
      xyz="0 0 1" />
      <limit upper="0.785398" lower="-0.785398" effort="100" velocity="100"/>
  </joint>
  <link
    name="Xboven_6">
    <inertial>
      <origin
        xyz="-4.05809819081782E-09 -6.0989879813178E-11 -4.05763855848562E-09"
        rpy="0 0 0" />
      <mass
        value="0.0563420368250425" />
      <inertia
        ixx="1.60143282288172E-05"
        ixy="6.10555470656297E-11"
        ixz="-9.17722565099704E-13"
        iyy="2.74613430702804E-05"
        iyz="-1.72120689434286E-07"
        izz="1.60169162859145E-05" />
    </inertial>
    <visual>
      <origin
        xyz="0 0 0"
        rpy="0 0 0" />
      <geometry>
        <mesh
          filename="package://Assem2/meshes/Xboven_6.STL" />
      </geometry>
      <material
        name="">
        <color
          rgba="0.792156862745098 0.819607843137255 0.933333333333333 1" />
      </material>
    </visual>
    <collision>
      <origin
        xyz="0 0 0"
        rpy="0 0 0" />
      <geometry>
        <mesh
          filename="package://Assem2/meshes/Xboven_6.STL" />
      </geometry>
    </collision>
  </link>
  <joint
    name="Xboven_6_joint"
    type="revolute">
    <origin
      xyz="0.0091881 -0.0039469 0.027794"
      rpy="1.5708 0 1.9642" />
    <parent
      link="lager_6" />
    <child
      link="Xboven_6" />
    <axis
      xyz="-1 0 0" />
      <limit upper="0.785398" lower="-0.785398" effort="100" velocity="100"/>
  </joint>
  <link
    name="U_6">
    <inertial>
      <origin
        xyz="2.59236936361873E-08 0.0239652389686342 0.0340000367475308"
        rpy="0 0 0" />
      <mass
        value="0.0691682399935604" />
      <inertia
        ixx="3.71147960895398E-05"
        ixy="-2.83753046634731E-11"
        ixz="7.70337450851422E-11"
        iyy="3.75576093332134E-05"
        iyz="-3.92691170964164E-11"
        izz="2.10364227127612E-05" />
    </inertial>
    <visual>
      <origin
        xyz="0 0 0"
        rpy="0 0 0" />
      <geometry>
        <mesh
          filename="package://Assem2/meshes/U_6.STL" />
      </geometry>
      <material
        name="">
        <color
          rgba="0.792156862745098 0.819607843137255 0.933333333333333 1" />
      </material>
    </visual>
    <collision>
      <origin
        xyz="0 0 0"
        rpy="0 0 0" />
      <geometry>
        <mesh
          filename="package://Assem2/meshes/U_6.STL" />
      </geometry>
    </collision>
  </link>
  <joint
    name="U_6_joint"
    type="revolute">
    <origin
      xyz="0 0.00051099 0.033996"
      rpy="-3.1268 -0.0024205 -2.9799" />
    <parent
      link="Xboven_6" />
    <child
      link="U_6" />
    <axis
      xyz="0 0 1" />
      <limit upper="0.785398" lower="-0.785398" effort="100" velocity="100"/>
  </joint>
  <link
    name="schijfA_6">
    <inertial>
      <origin
        xyz="7.54951656745106E-15 0.000500000000001277 9.99200722162641E-15"
        rpy="0 0 0" />
      <mass
        value="0.00424821866581627" />
      <inertia
        ixx="1.47161295786605E-06"
        ixy="-1.37907551724841E-20"
        ixz="2.48815928255951E-21"
        iyy="2.9425178792878E-06"
        iyz="4.6983858793012E-21"
        izz="1.47161295786605E-06" />
    </inertial>
    <visual>
      <origin
        xyz="0 0 0"
        rpy="0 0 0" />
      <geometry>
        <mesh
          filename="package://Assem2/meshes/schijfA_6.STL" />
      </geometry>
      <material
        name="">
        <color
          rgba="0.792156862745098 0.819607843137255 0.933333333333333 1" />
      </material>
    </visual>
    <collision>
      <origin
        xyz="0 0 0"
        rpy="0 0 0" />
      <geometry>
        <mesh
          filename="package://Assem2/meshes/schijfA_6.STL" />
      </geometry>
    </collision>
  </link>
  <joint
    name="schijfA_6_joint"
    type="fixed">
    <origin
      xyz="0 0.0430000000000115 0.0339999999999832"
      rpy="0 -1.04719755119668 0" />
    <parent
      link="U_6" />
    <child
      link="schijfA_6" />
    <axis
      xyz="0 0 0" />
  </joint>
</robot>
